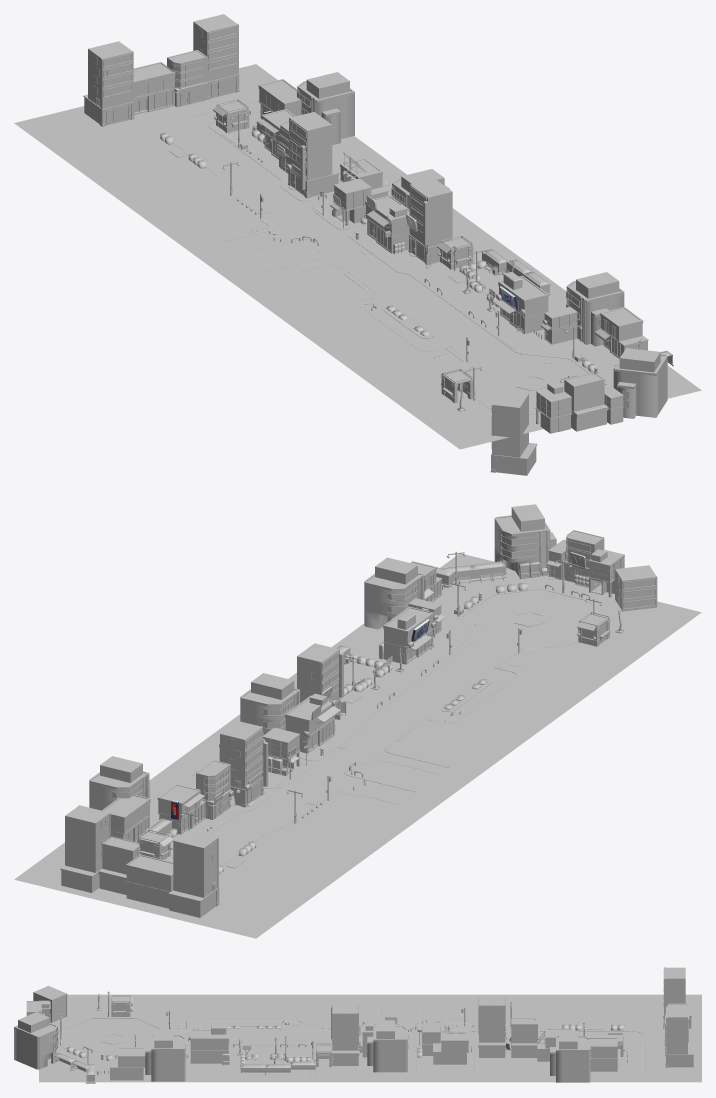
File: sb_city_01_n_p01_s.fbx
3 renders of one model, top to bottom at view 1: azimuth 30°, elevation 25°; view 2: azimuth 150°, elevation 25°; view 3: azimuth 270°, elevation 25°, orthographic. The views are drawn at different scales.
Parts seen in each view (by area): view 1: sb_city_01_ground_00, sb_city_01_building_02 (×5), sb_city_01_building_05 (×4), sb_city_01_building_04 (×4), sb_city_01_building_03 (×2), sb_city_01_building_06 (×3), sb_city_01_building_08 (×3), sb_city_01_building_07 (×2), sb_city_01_building_01; view 2: sb_city_01_ground_00, sb_city_01_building_02 (×5), sb_city_01_building_05 (×4), sb_city_01_building_04 (×4), sb_city_01_building_03 (×3), sb_city_01_building_07 (×2), sb_city_01_building_08 (×2), sb_city_01_building_06; view 3: sb_city_01_ground_00, sb_city_01_building_05 (×4), sb_city_01_building_02 (×5), sb_city_01_building_06 (×3), sb_city_01_building_04 (×3), sb_city_01_building_03 (×2), sb_city_01_building_08 (×2), sb_city_01_prop_49 (×3), sb_city_01_building_07.
Part boxes in pixels (x1,y1,x2,y2): sb_city_01_ground_00: (14, 64, 701, 449); sb_city_01_building_02 (×5): (83, 14, 537, 475); sb_city_01_building_05 (×4): (296, 72, 667, 418); sb_city_01_building_04 (×4): (133, 62, 548, 333); sb_city_01_building_03 (×2): (167, 50, 608, 431); sb_city_01_building_06 (×3): (261, 109, 648, 358); sb_city_01_building_08 (×3): (213, 99, 473, 403); sb_city_01_building_07 (×2): (333, 178, 572, 433); sb_city_01_building_01: (544, 306, 577, 344); sb_city_01_ground_00: (14, 553, 701, 938); sb_city_01_building_02 (×5): (60, 565, 657, 917); sb_city_01_building_05 (×4): (89, 504, 556, 810); sb_city_01_building_04 (×4): (102, 606, 433, 908); sb_city_01_building_03 (×3): (98, 530, 604, 894); sb_city_01_building_07 (×2): (263, 549, 624, 774); sb_city_01_building_08 (×2): (136, 612, 610, 859); sb_city_01_building_06: (157, 784, 205, 834); sb_city_01_ground_00: (39, 994, 701, 1082); sb_city_01_building_05 (×4): (14, 1012, 591, 1082); sb_city_01_building_02 (×5): (33, 967, 694, 1067); sb_city_01_building_06 (×3): (109, 1028, 572, 1080); sb_city_01_building_04 (×3): (190, 1023, 617, 1071); sb_city_01_building_03 (×2): (26, 1001, 538, 1057); sb_city_01_building_08 (×2): (111, 994, 333, 1066); sb_city_01_prop_49 (×3): (240, 1061, 315, 1074); sb_city_01_building_07: (422, 1023, 440, 1055).
Size of the model in its own units: 25.61 by 10.33 by 83.69.
